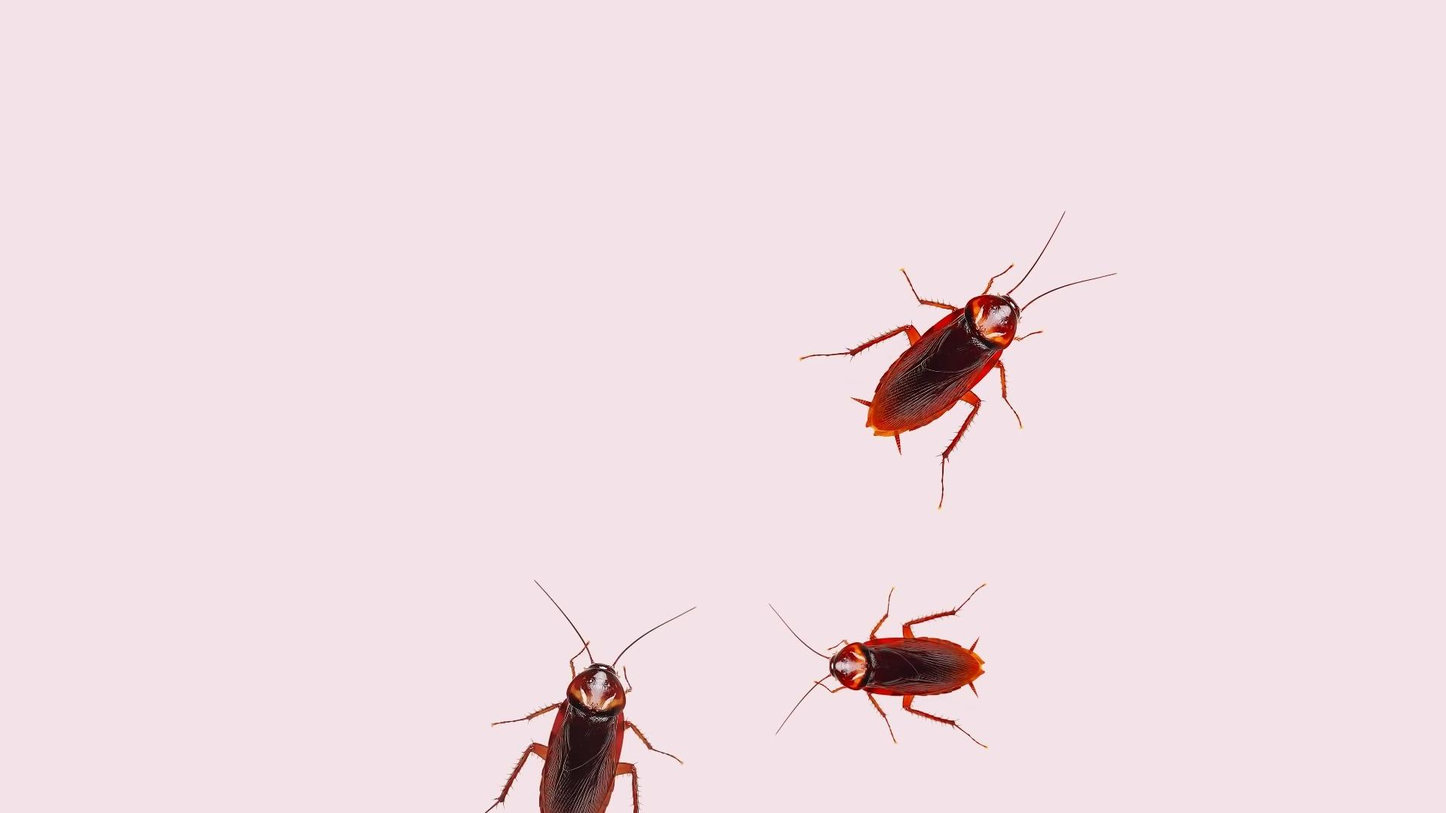cockroach: (846, 219, 1051, 479), (497, 623, 674, 813), (780, 586, 1003, 732)
